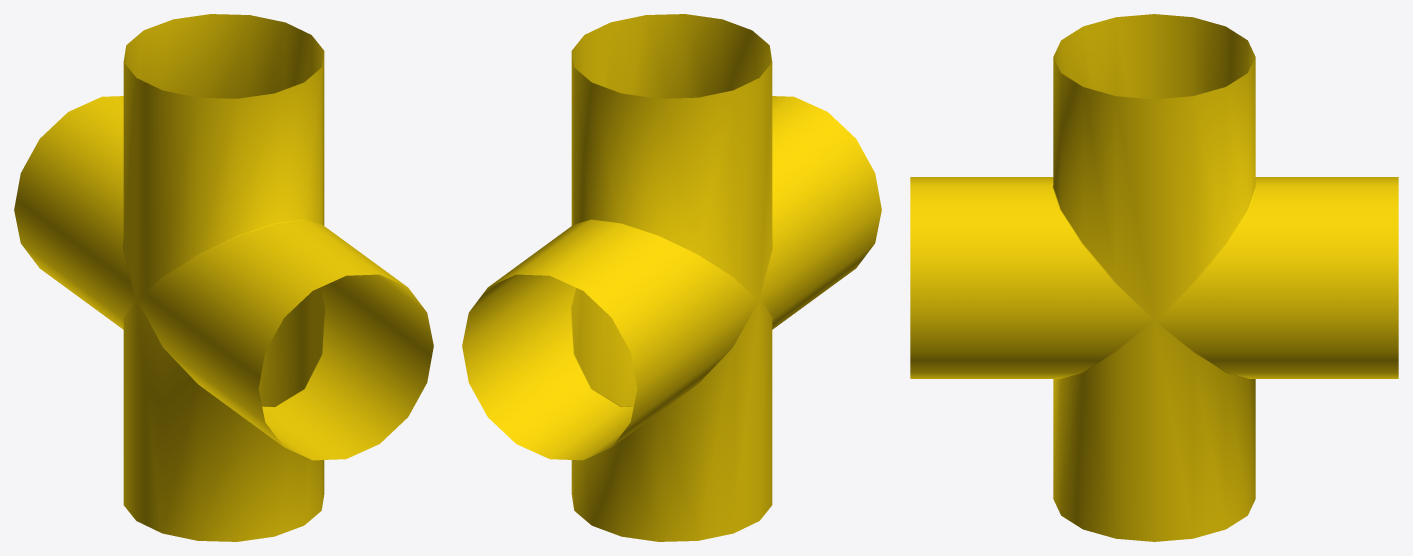
The model's file is sm_pipe_C.fbx.
The picture shows the model from 3 angles, left to right: view 1: azimuth 30°, elevation 25°; view 2: azimuth 150°, elevation 25°; view 3: azimuth 270°, elevation 25°; orthographic projection.
Parts seen in each view (by area): view 1: Straight.001; view 2: Straight.001; view 3: Straight.001.
Boxes of the visible parts, <box> form: Straight.001: <box>14,14,433,541</box>; Straight.001: <box>462,14,881,541</box>; Straight.001: <box>910,14,1398,541</box>.
Size of the model in its own units: 62 by 150 by 150.
